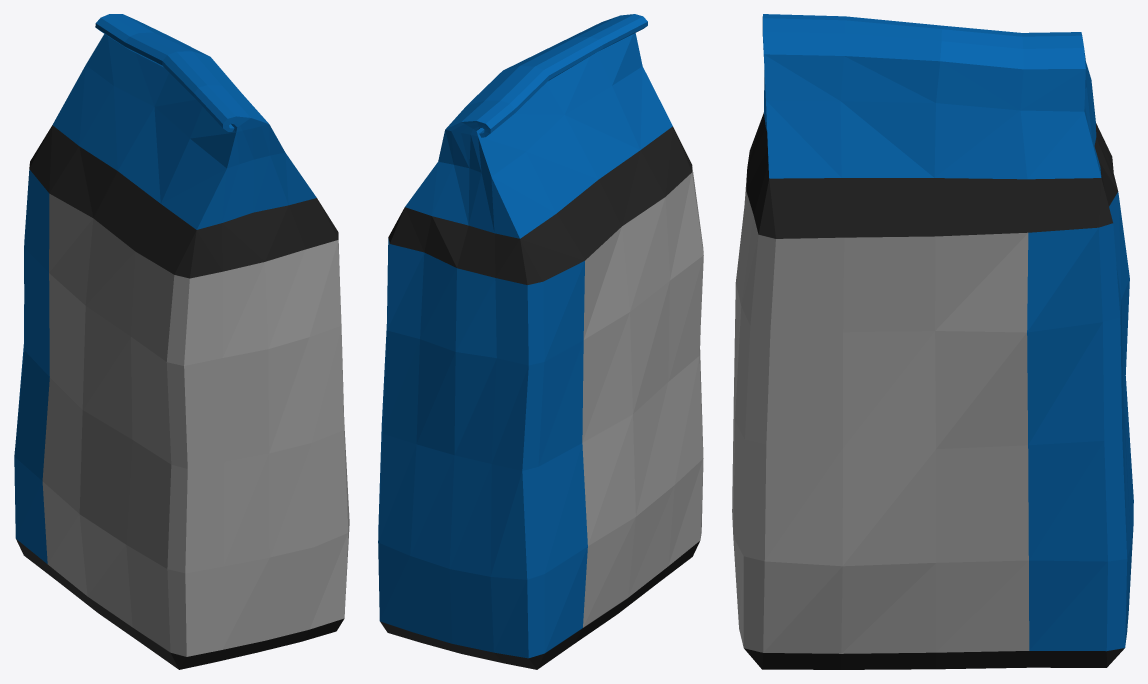
The picture shows the model from 3 angles, left to right: view 1: azimuth 30°, elevation 25°; view 2: azimuth 150°, elevation 25°; view 3: azimuth 270°, elevation 25°; orthographic projection. The views are drawn at different scales.
Parts seen in each view (by area): view 1: Mörtel.001; view 2: Mörtel.001; view 3: Mörtel.001.
Part boxes in pixels (left/top/right/bottom): Mörtel.001: left=14, top=14, right=349, bottom=669; Mörtel.001: left=378, top=14, right=703, bottom=669; Mörtel.001: left=732, top=14, right=1133, bottom=669.
Size of the model in its own units: 0.1669 by 0.4319 by 0.2611.
